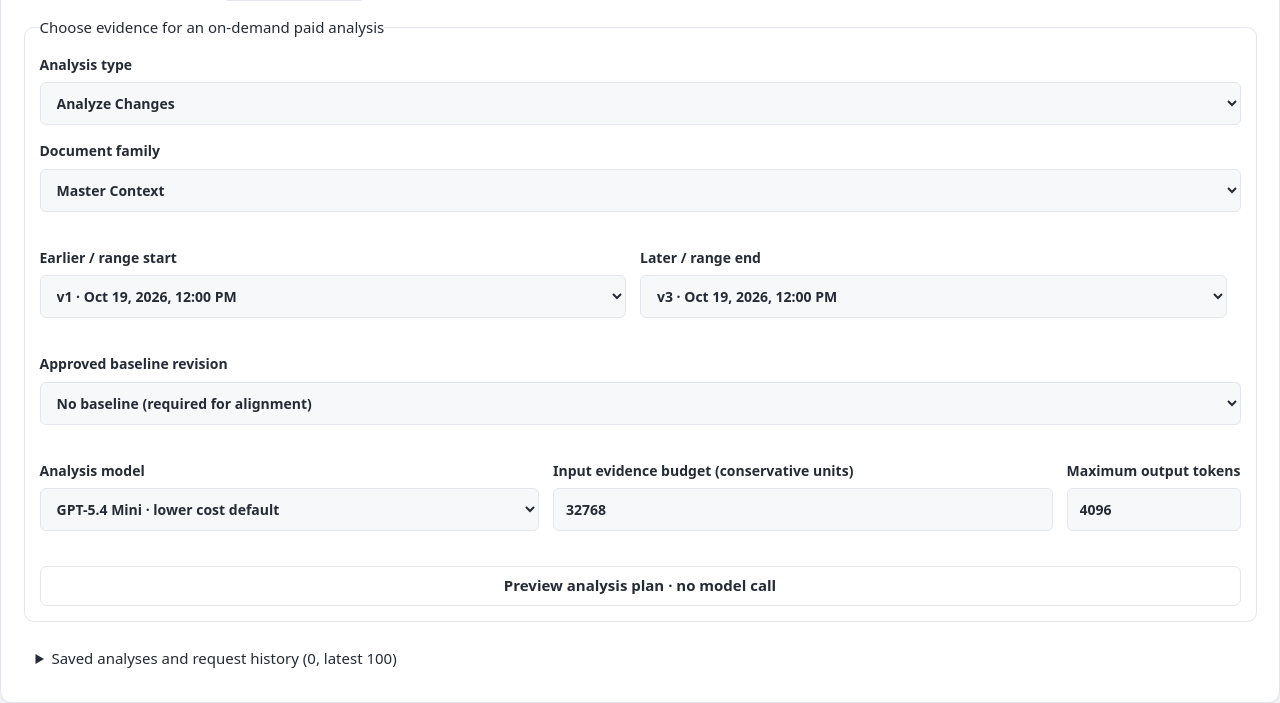
Test case: offers an exact cached report without requesting generation or credentials
The width and height of the screenshot is (1280, 703).
(page scrolled)
Click the button "Preview analysis plan · no model call".
click(640, 586)  # box [40, 566, 1240, 606]
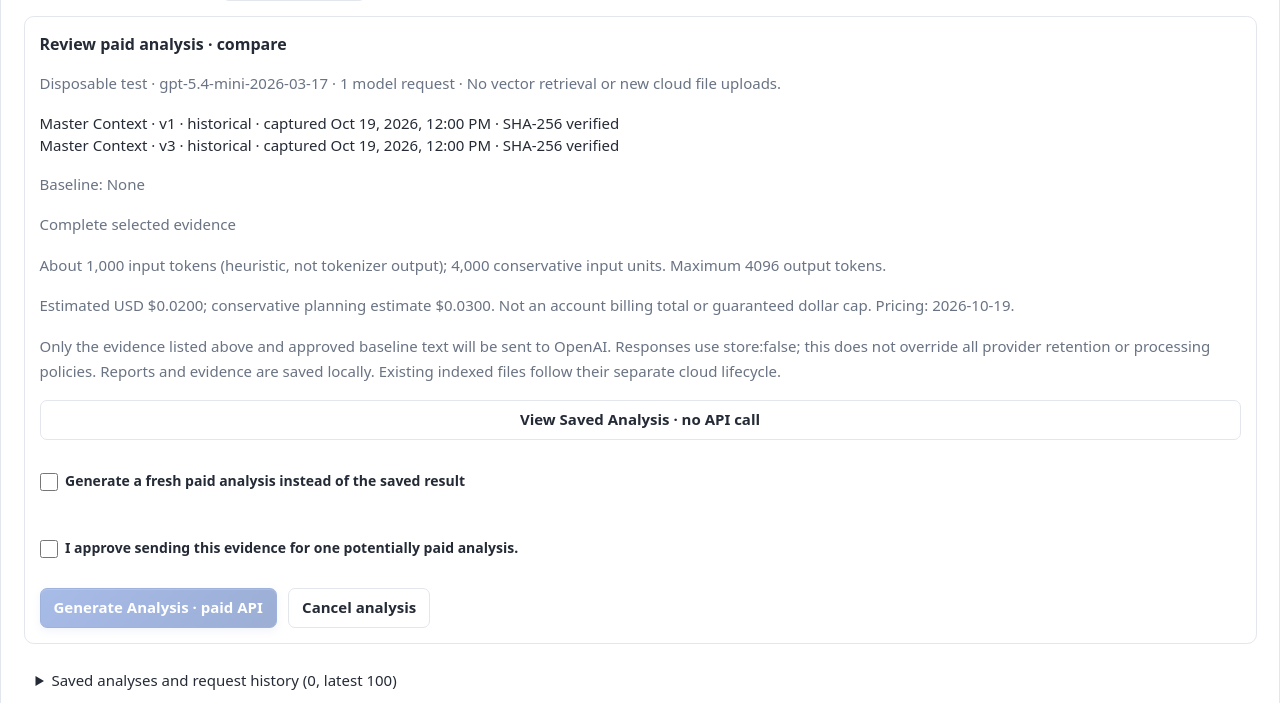
Click the button "View Saved Analysis · no API call".
click(640, 420)  # box [40, 400, 1240, 440]
(page scrolled)
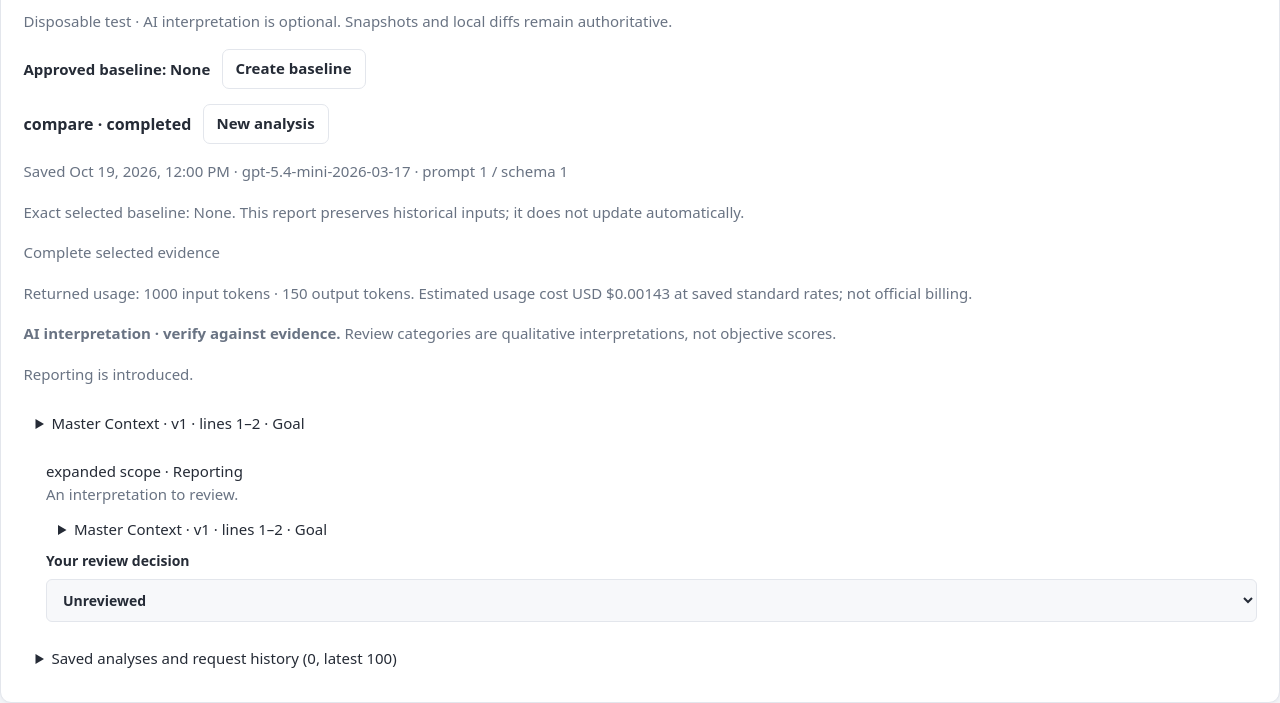
Now the text "Reporting is introduced." is shown, box [24, 364, 193, 384]
